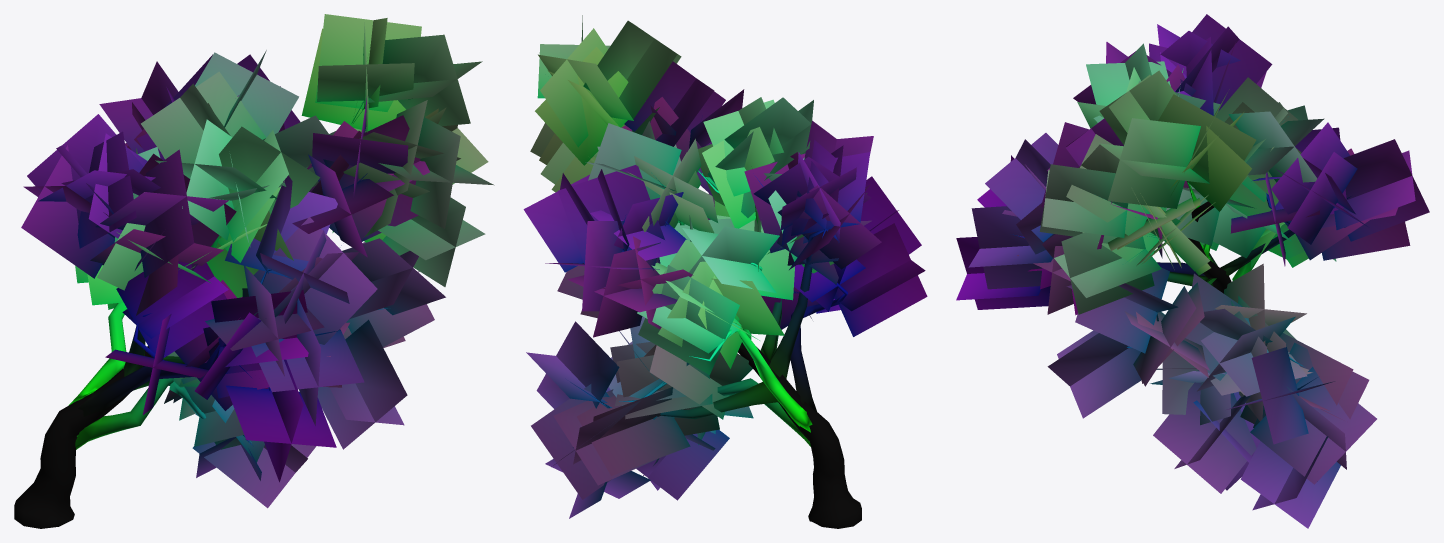
File: M_P5_Tree_13.fbx
The picture shows the model from 3 angles, left to right: view 1: azimuth 30°, elevation 25°; view 2: azimuth 150°, elevation 25°; view 3: azimuth 270°, elevation 25°; orthographic projection. The views are drawn at different scales.
Parts seen in each view (by area): view 1: Tree_13; view 2: Tree_13; view 3: Tree_13.
Part boxes in pixels (bbox=[...]): Tree_13: bbox=[14, 14, 494, 528]; Tree_13: bbox=[523, 15, 927, 528]; Tree_13: bbox=[956, 14, 1429, 528].
Bounding box in the file's own units: 420 × 473 × 437.
